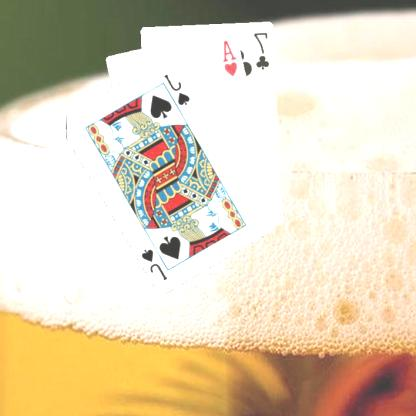7C: (252, 30, 272, 70)
AH: (221, 37, 241, 78)
JS: (140, 246, 171, 282), (163, 71, 193, 107)
